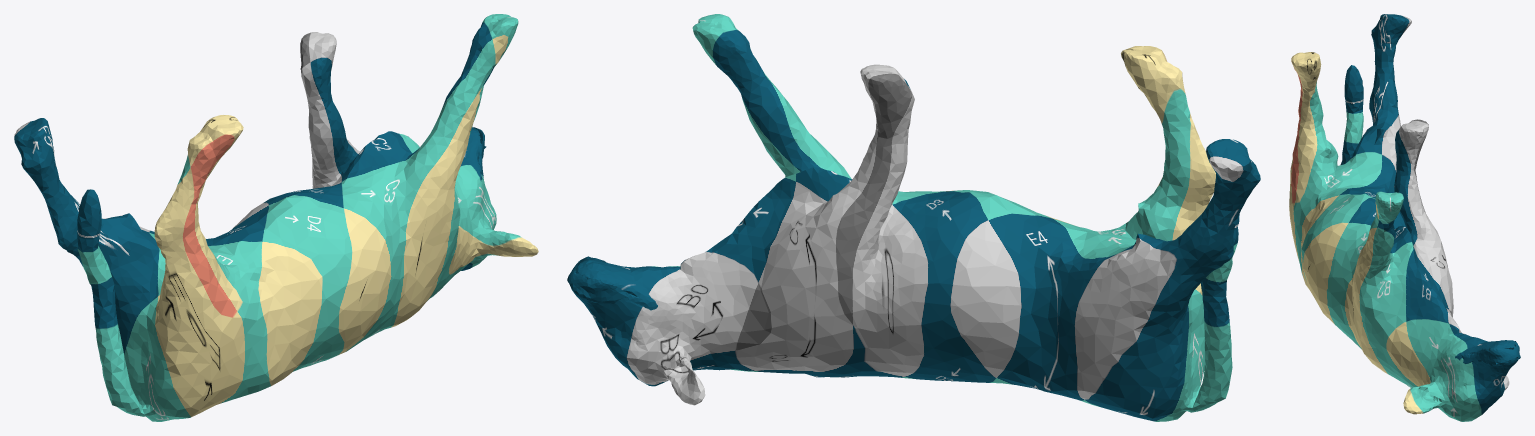
Rendered from lion_05-cow_06.obj.
The picture shows the model from 3 angles, left to right: view 1: azimuth 30°, elevation 25°; view 2: azimuth 150°, elevation 25°; view 3: azimuth 270°, elevation 25°; orthographic projection. The views are drawn at different scales.
Visible parts, largest first — view 1: lion_05-cow_06_export; view 2: lion_05-cow_06_export; view 3: lion_05-cow_06_export.
Part boxes in pixels (x1,y1,x2,y2): lion_05-cow_06_export: (14, 14, 538, 421); lion_05-cow_06_export: (567, 14, 1260, 421); lion_05-cow_06_export: (1289, 14, 1520, 421).
Size of the model in its own units: 0.9906 by 0.5382 by 0.4724.
